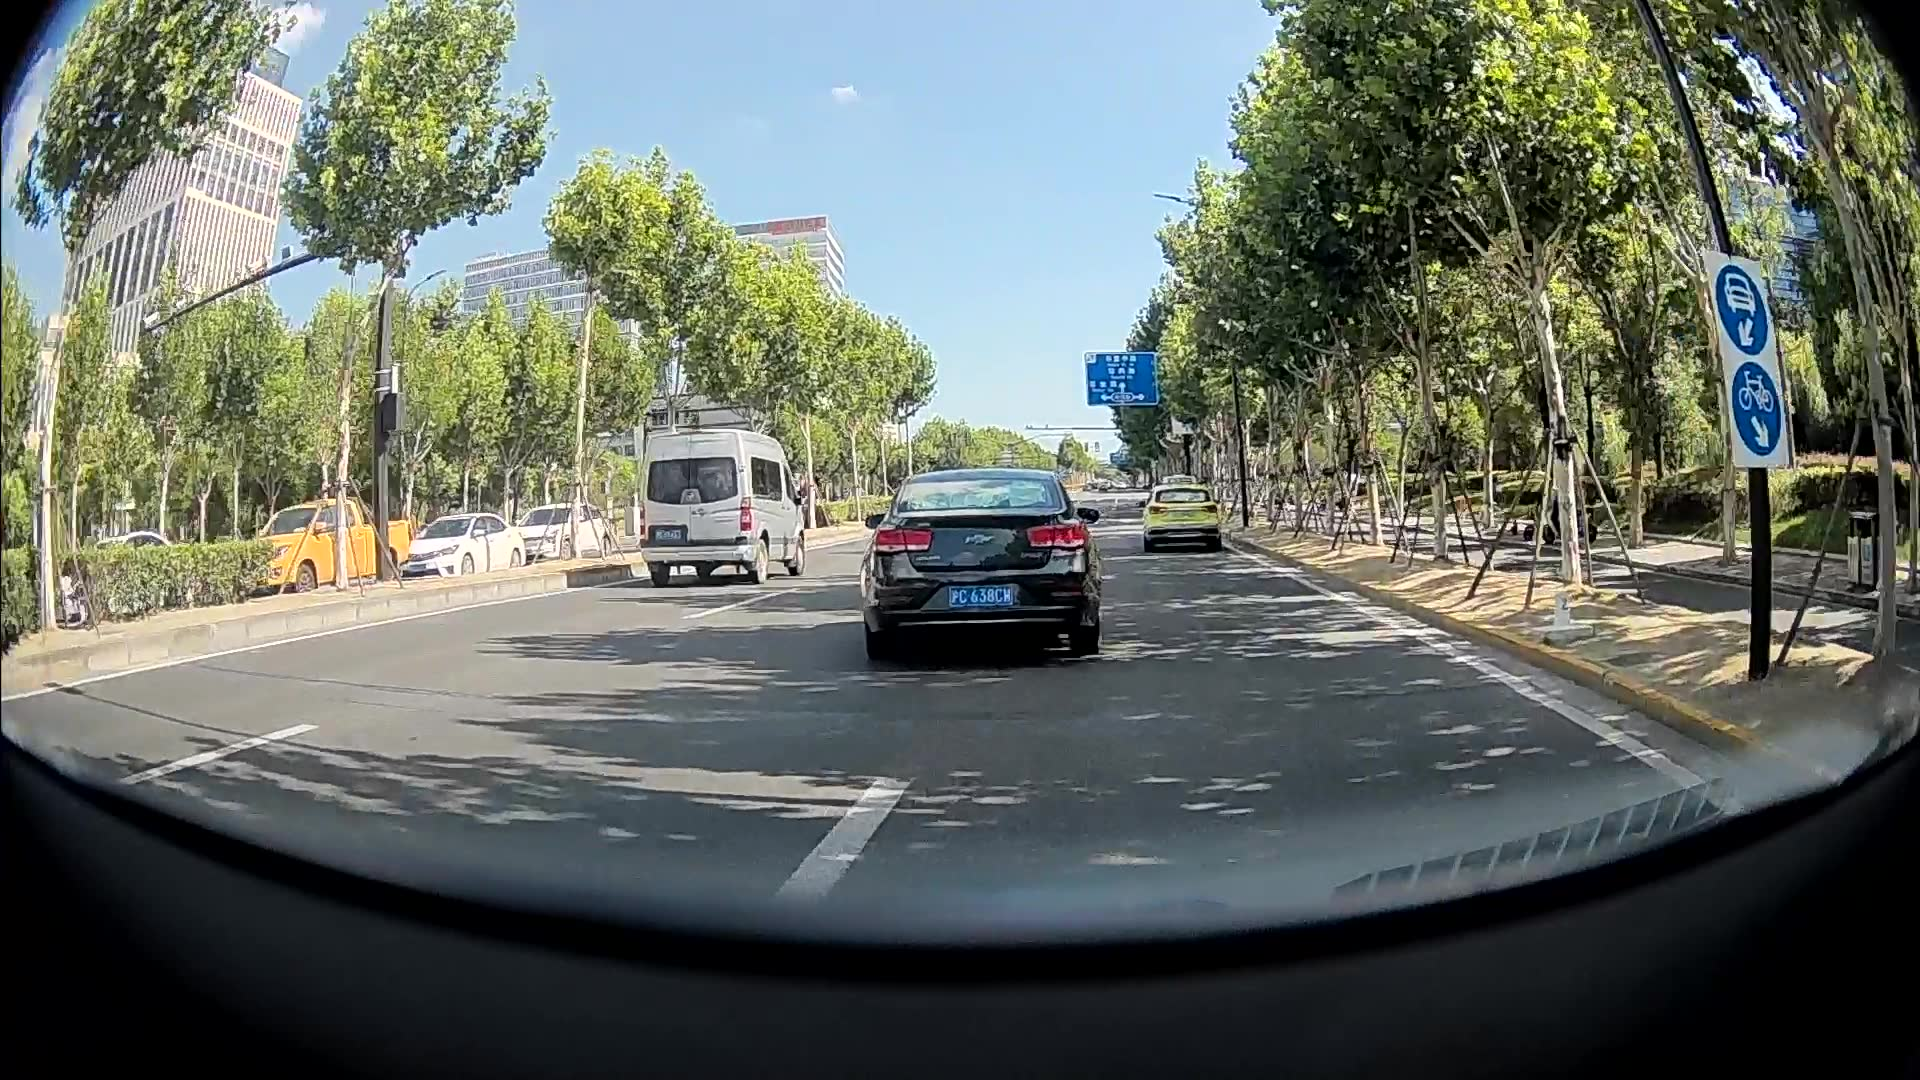car: (859, 468, 1101, 658), (399, 512, 525, 581)
dontcareregion: (1210, 481, 1352, 512), (79, 509, 176, 550), (1522, 495, 1562, 545), (1575, 504, 1598, 550), (1450, 493, 1484, 526), (1085, 478, 1133, 493), (1172, 415, 1191, 433), (1110, 452, 1128, 463), (1064, 483, 1084, 490), (1150, 458, 1157, 475)
guardrail: (1216, 506, 1920, 775), (0, 538, 644, 662), (803, 495, 893, 537)
info_ts: (1084, 351, 1157, 405)
lorry: (235, 498, 408, 599)
plate: (948, 584, 1012, 606), (655, 529, 680, 539), (409, 563, 425, 572)
suv: (508, 502, 611, 566), (1142, 484, 1221, 552)
trafficsign: (1716, 262, 1769, 355), (1731, 360, 1782, 456)
van: (638, 428, 804, 584)
vehicle_back: (859, 468, 1101, 658), (638, 428, 749, 584), (1142, 484, 1221, 552)
vehicle_front: (235, 498, 287, 599), (399, 512, 455, 581), (508, 502, 555, 566)
